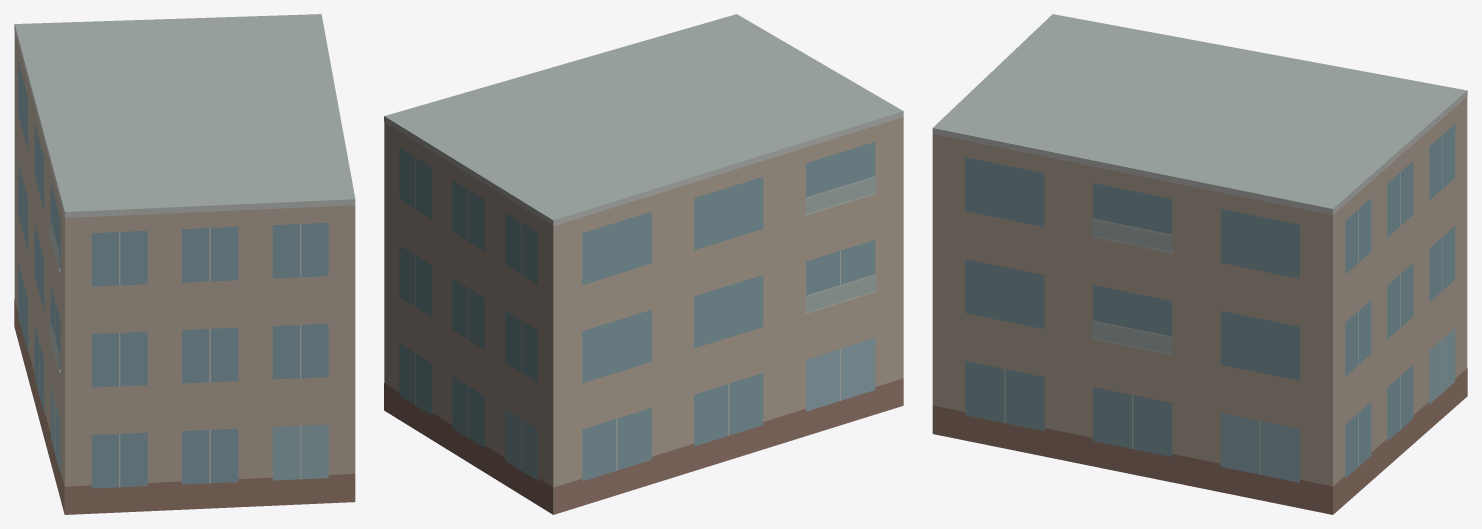
Rendered from survey-upis-32636431.glb.
3 renders of one model, left to right at view 1: azimuth 30°, elevation 25°; view 2: azimuth 150°, elevation 25°; view 3: azimuth 270°, elevation 25°, orthographic. The views are drawn at different scales.
Parts seen in each view (by area): view 1: survey-upis-32636431.tmp; view 2: survey-upis-32636431.tmp; view 3: survey-upis-32636431.tmp.
Boxes of the visible parts, x1,y1,x2,y2 form: survey-upis-32636431.tmp: (14,14,355,514); survey-upis-32636431.tmp: (384,14,903,514); survey-upis-32636431.tmp: (932,14,1467,514).
Bounding box in the file's own units: 16.82 × 12.3 × 19.5.
